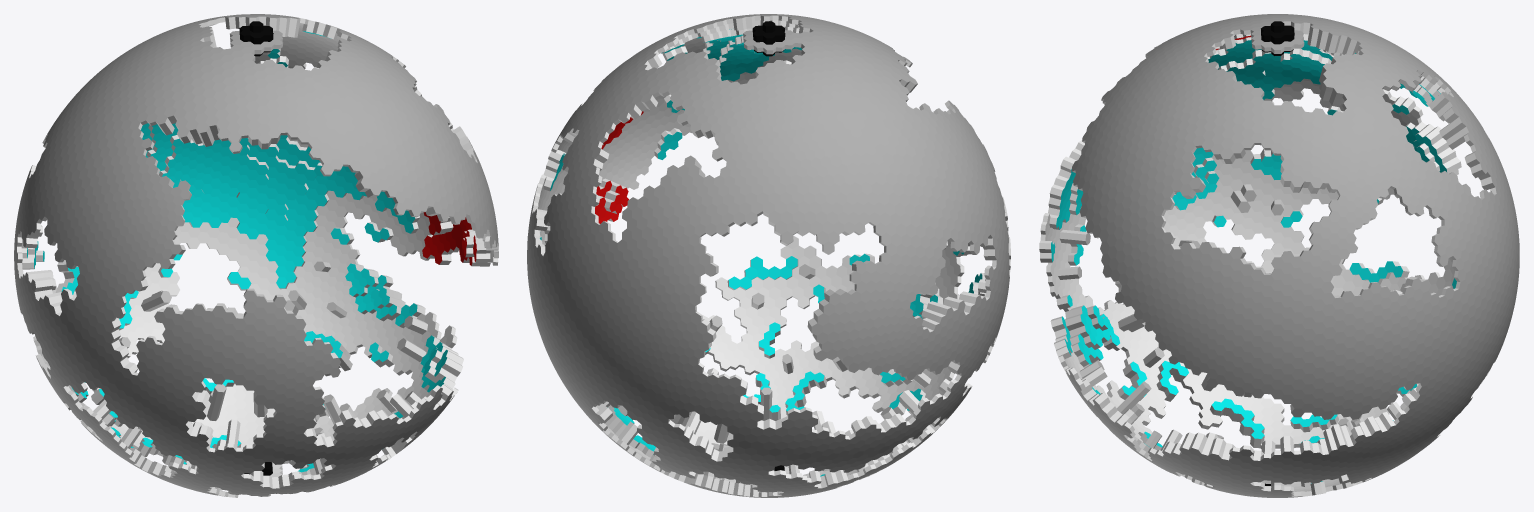
File: DysonSphere.fbx
3 renders of one model, left to right at view 1: azimuth 30°, elevation 25°; view 2: azimuth 150°, elevation 25°; view 3: azimuth 270°, elevation 25°, orthographic.
Visible parts, largest first — view 1: sphereFinal_v3; view 2: sphereFinal_v3; view 3: sphereFinal_v3.
Boxes of the visible parts, <box> form: sphereFinal_v3: <box>14,14,498,497</box>; sphereFinal_v3: <box>527,14,1010,497</box>; sphereFinal_v3: <box>1039,14,1519,497</box>.
Size of the model in its own units: 5097 by 5396 by 5060.
